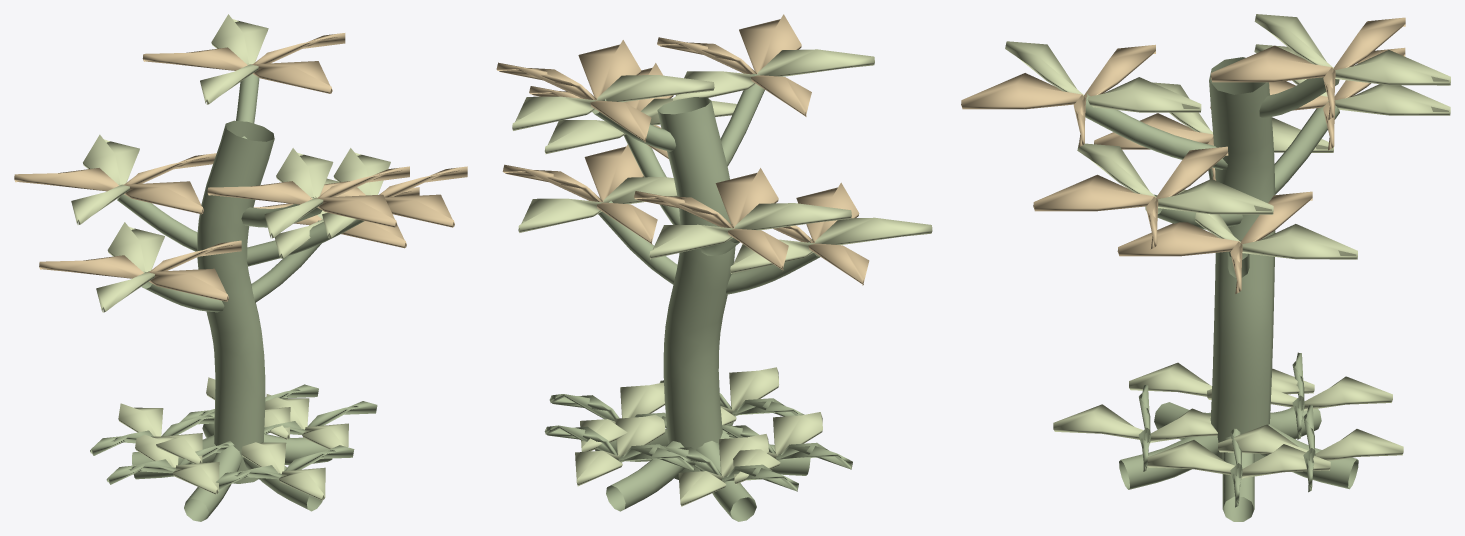
Rendered from bio_canopy_tree_05_far.glb.
The picture shows the model from 3 angles, left to right: view 1: azimuth 30°, elevation 25°; view 2: azimuth 150°, elevation 25°; view 3: azimuth 270°, elevation 25°; orthographic projection. The views are drawn at different scales.
Visible parts, largest first — view 1: Buttressed trunk, Broad canopy leaf.020, Broad canopy leaf.015, Broad canopy leaf.010, Broad canopy leaf.005, Broad canopy leaf.011, Broad canopy leaf.016, Broad canopy leaf.025, Broad canopy leaf.021, Broad canopy leaf.006, Low buttress leaf.009, Low buttress leaf.005 (+11 smaller); view 2: Buttressed trunk, Broad canopy leaf.015, Broad canopy leaf.005, Broad canopy leaf.010, Broad canopy leaf, Broad canopy leaf.016, Broad canopy leaf.006, Broad canopy leaf.011, Broad canopy leaf.021, Broad canopy leaf.001, Broad canopy leaf.020, Low buttress leaf.013 (+11 smaller); view 3: Buttressed trunk, Broad canopy leaf.015, Broad canopy leaf.025, Broad canopy leaf.010, Broad canopy leaf, Broad canopy leaf.016, Broad canopy leaf.026, Broad canopy leaf.011, Low buttress leaf.001, Broad canopy leaf.001, Low buttress leaf.009, Low buttress leaf.013 (+10 smaller).
Part boxes in pixels (<box>): Buttressed trunk: <box>117,74,364,521</box>; Broad canopy leaf.020: <box>39,240,241,301</box>; Broad canopy leaf.015: <box>142,33,345,93</box>; Broad canopy leaf.010: <box>207,166,409,227</box>; Broad canopy leaf.005: <box>14,153,216,214</box>; Broad canopy leaf.011: <box>264,148,333,238</box>; Broad canopy leaf.016: <box>200,14,268,104</box>; Broad canopy leaf.025: <box>320,166,467,227</box>; Broad canopy leaf.021: <box>96,222,164,312</box>; Broad canopy leaf.006: <box>71,134,139,224</box>; Low buttress leaf.009: <box>241,442,325,500</box>; Low buttress leaf.005: <box>118,403,202,463</box>; Buttressed trunk: <box>592,73,820,521</box>; Broad canopy leaf.015: <box>496,40,651,142</box>; Broad canopy leaf.005: <box>634,168,788,270</box>; Broad canopy leaf.010: <box>657,14,811,116</box>; Broad canopy leaf: <box>502,144,657,244</box>; Broad canopy leaf.016: <box>512,75,714,130</box>; Broad canopy leaf.006: <box>649,203,851,259</box>; Broad canopy leaf.011: <box>672,49,874,101</box>; Broad canopy leaf.021: <box>730,217,932,273</box>; Broad canopy leaf.001: <box>518,177,677,232</box>; Broad canopy leaf.020: <box>773,182,869,285</box>; Low buttress leaf.013: <box>575,414,665,486</box>; Buttressed trunk: <box>1085,57,1358,521</box>; Broad canopy leaf.015: <box>1210,17,1405,119</box>; Broad canopy leaf.025: <box>1033,146,1228,249</box>; Broad canopy leaf.010: <box>961,44,1155,147</box>; Broad canopy leaf: <box>1117,191,1312,293</box>; Broad canopy leaf.016: <box>1254,14,1450,85</box>; Broad canopy leaf.026: <box>1077,143,1273,214</box>; Broad canopy leaf.011: <box>1005,41,1201,112</box>; Low buttress leaf.001: <box>1147,440,1330,478</box>; Broad canopy leaf.001: <box>1177,189,1357,259</box>; Low buttress leaf.009: <box>1053,404,1217,443</box>; Low buttress leaf.013: <box>1218,424,1403,460</box>.
Bounding box in the file's own units: 2.97 × 2.99 × 2.93.
